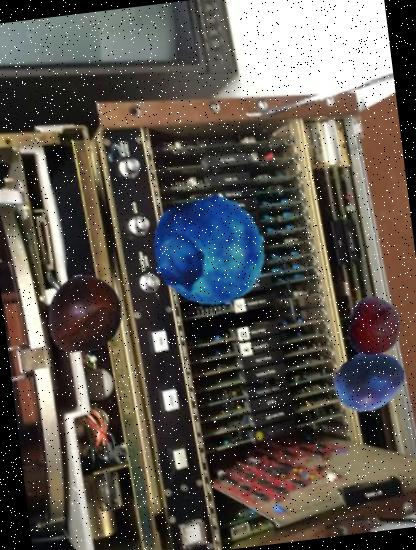Chestnut: (41, 270, 127, 356)
Huckleberry: (148, 190, 272, 314)
Plum: (329, 341, 409, 421)
Salak: (341, 294, 408, 361)
